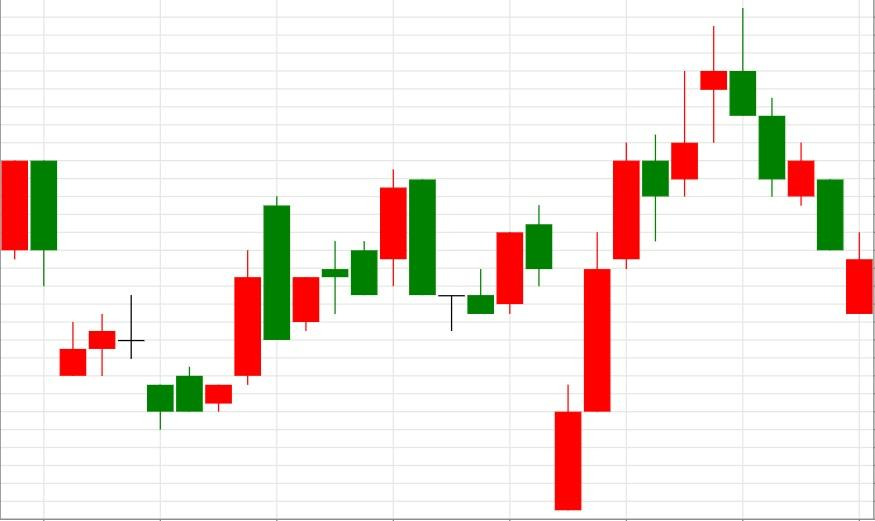three_white_soldiers_rise: (525, 142, 641, 511)
